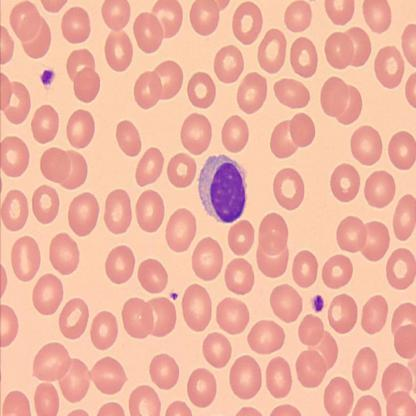Lymphocyte: (197, 154, 248, 224)
